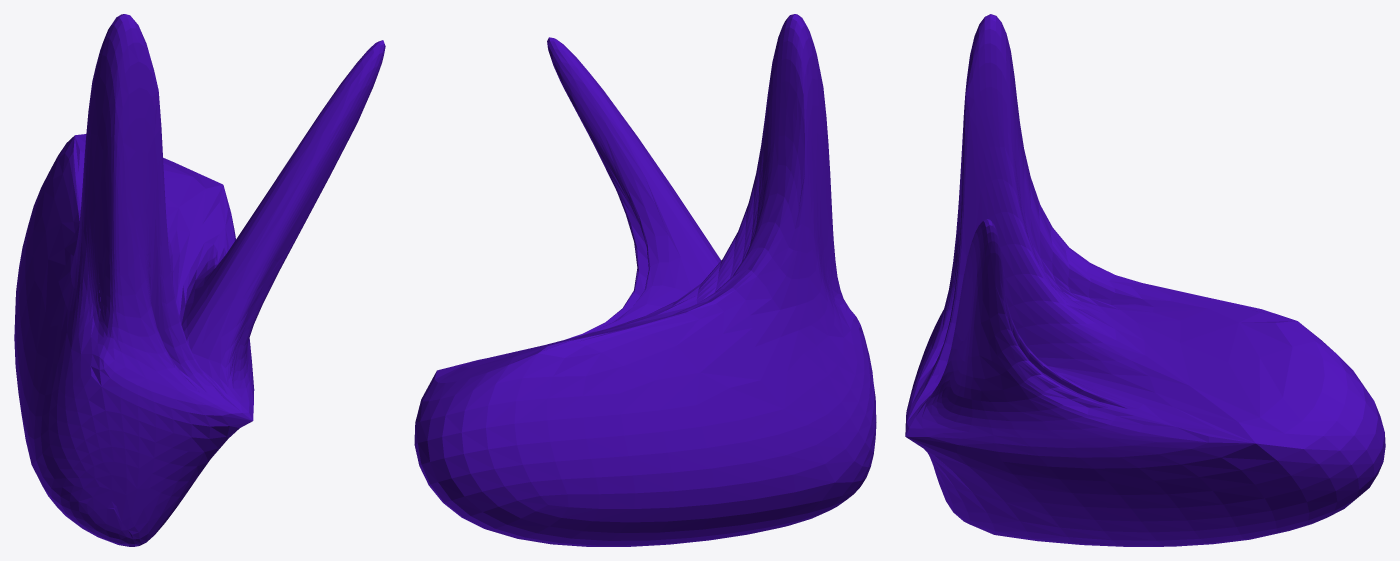
3 views of the same model, side by side, from view 1: azimuth 30°, elevation 25°; view 2: azimuth 150°, elevation 25°; view 3: azimuth 270°, elevation 25° (orthographic). The views are drawn at different scales.
Visible parts, largest first — view 1: 928_Cube.3751; view 2: 928_Cube.3751; view 3: 928_Cube.3751.
Part boxes in pixels (<box>): 928_Cube.3751: <box>14,14,385,546</box>; 928_Cube.3751: <box>414,14,876,546</box>; 928_Cube.3751: <box>905,14,1385,546</box>.
Size of the model in its own units: 8.17 by 12.2 by 10.43.
